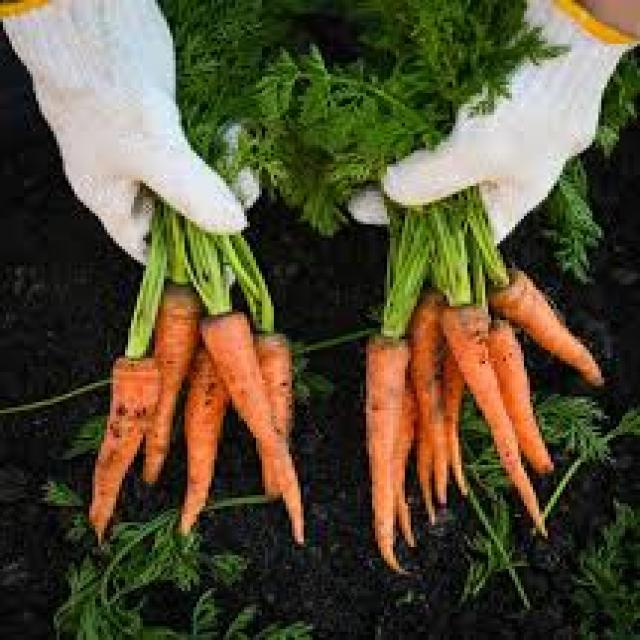Carrot: (362, 336, 411, 560)
